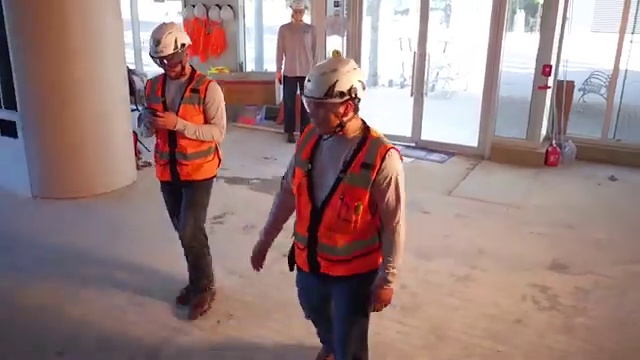helmet: (298, 50, 373, 105), (146, 19, 197, 54)
jacket: (294, 119, 403, 277), (142, 70, 235, 189)
